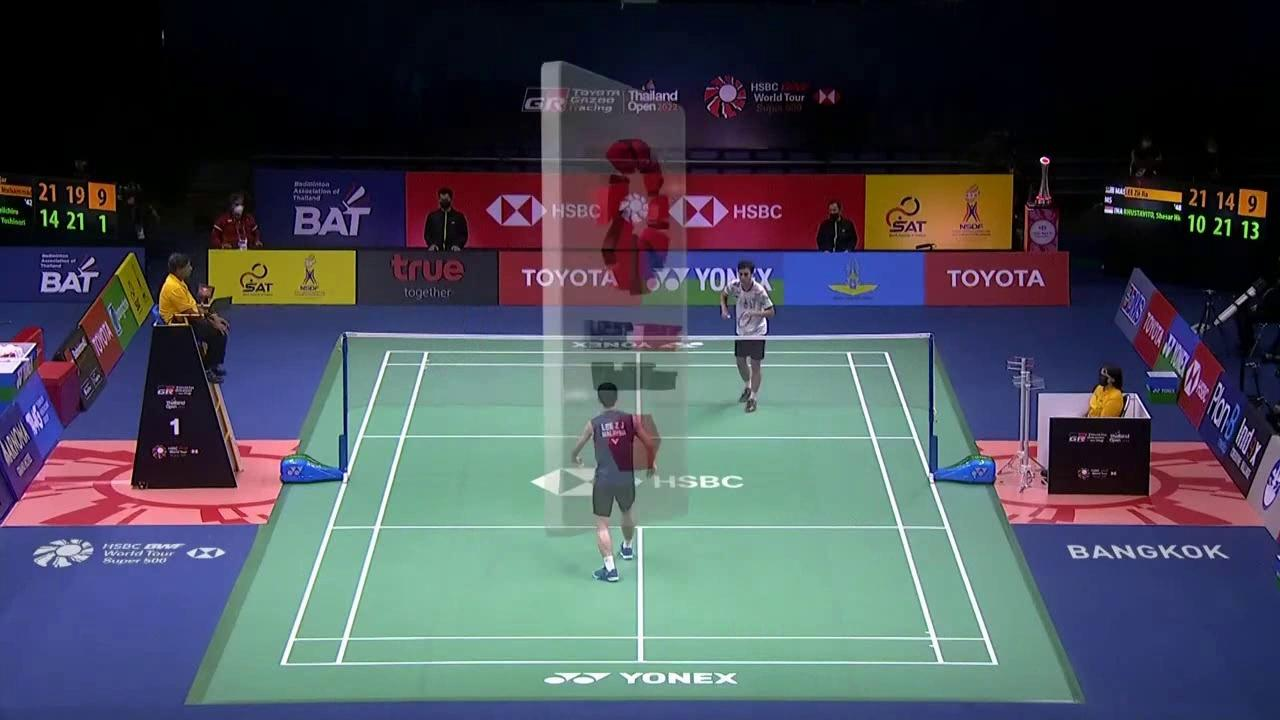racket: (727, 312, 752, 328)
shuttle: (577, 459, 585, 471)
